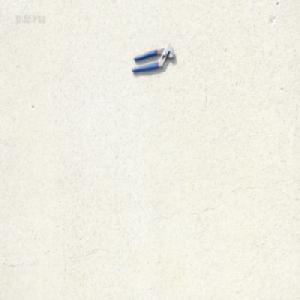Pliers: (130, 42, 175, 73)
